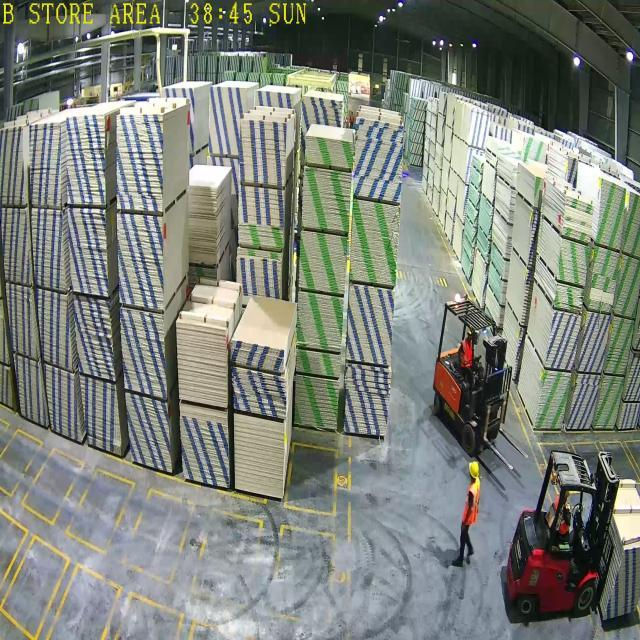material_stack: (350, 200, 400, 287), (353, 118, 403, 204), (234, 414, 285, 498), (345, 283, 395, 366), (344, 365, 391, 436), (301, 166, 351, 231), (298, 232, 347, 294), (296, 292, 344, 352), (233, 367, 286, 418), (294, 375, 339, 430), (534, 370, 572, 430), (544, 311, 581, 370), (587, 247, 619, 313), (596, 180, 626, 249), (578, 312, 611, 372), (569, 376, 601, 432), (593, 376, 625, 430), (230, 342, 284, 373), (605, 320, 635, 375), (557, 237, 590, 286), (305, 136, 354, 168), (563, 196, 595, 243), (296, 348, 341, 378), (554, 282, 585, 312)
